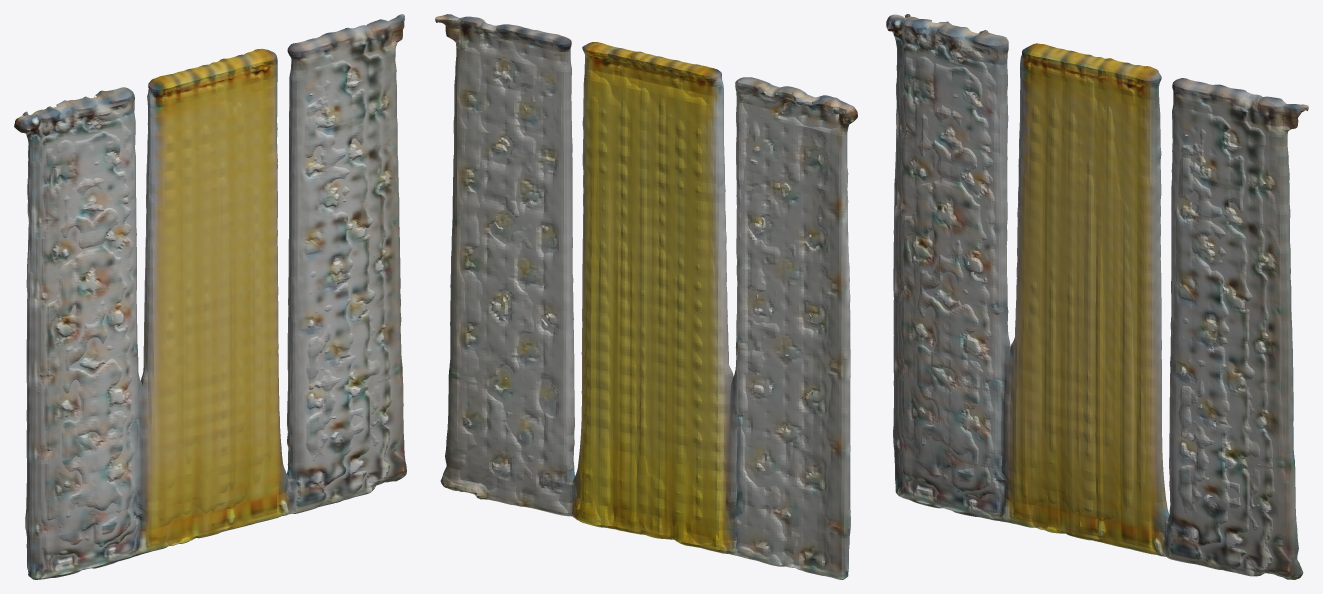
The model's file is sample.glb.
3 renders of one model, left to right at view 1: azimuth 30°, elevation 25°; view 2: azimuth 150°, elevation 25°; view 3: azimuth 330°, elevation 25°, orthographic. The views are drawn at different scales.
Visible parts, largest first — view 1: world; view 2: world; view 3: world.
Boxes of the visible parts, left/top/right/bottom form: world: left=14, top=14, right=406, bottom=579; world: left=435, top=14, right=857, bottom=579; world: left=886, top=14, right=1308, bottom=579.
Bounding box in the file's own units: 1.22 × 1.37 × 0.1159.
